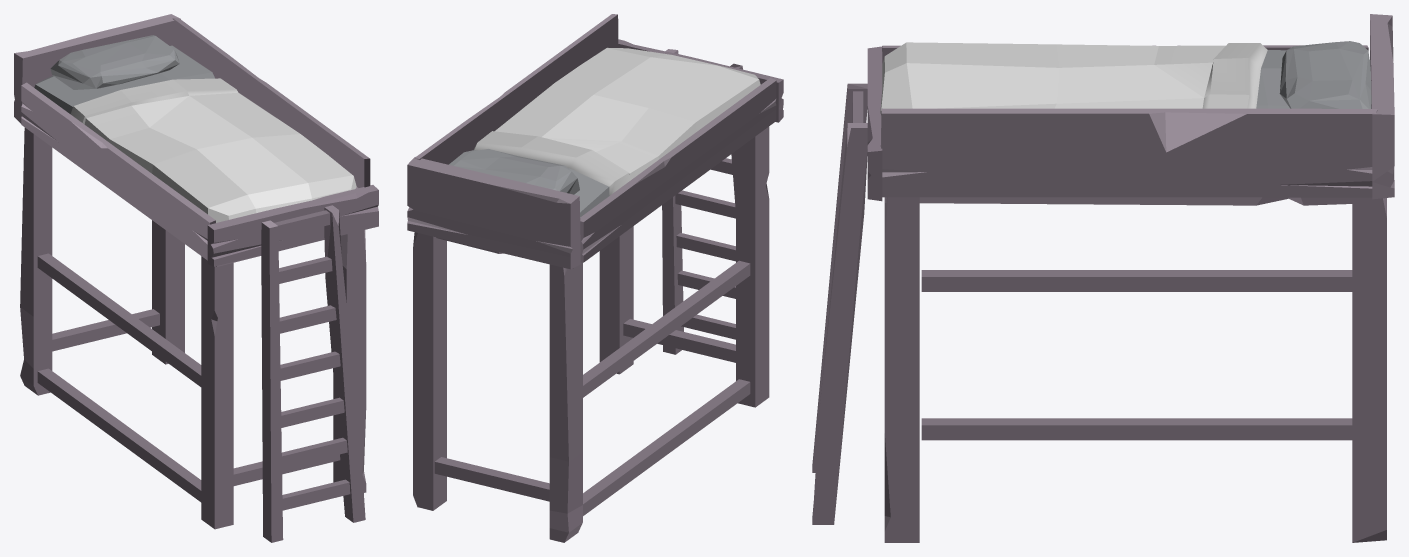
The model's file is Bed_High_White.fbx.
The picture shows the model from 3 angles, left to right: view 1: azimuth 30°, elevation 25°; view 2: azimuth 150°, elevation 25°; view 3: azimuth 270°, elevation 25°; orthographic projection. The views are drawn at different scales.
Visible parts, largest first — view 1: Bed_High_White; view 2: Bed_High_White; view 3: Bed_High_White.
Part boxes in pixels (x1,y1,x2,y2): Bed_High_White: (14, 14, 378, 542); Bed_High_White: (407, 14, 783, 542); Bed_High_White: (812, 14, 1394, 542).
Size of the model in its own units: 1.1 by 2.11 by 2.58.
Materials: 1 (1 with a texture image).
